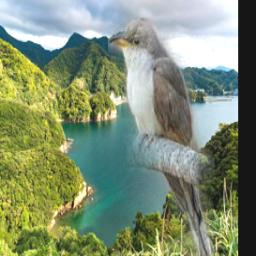Cuckoo: (108, 18, 215, 256)
